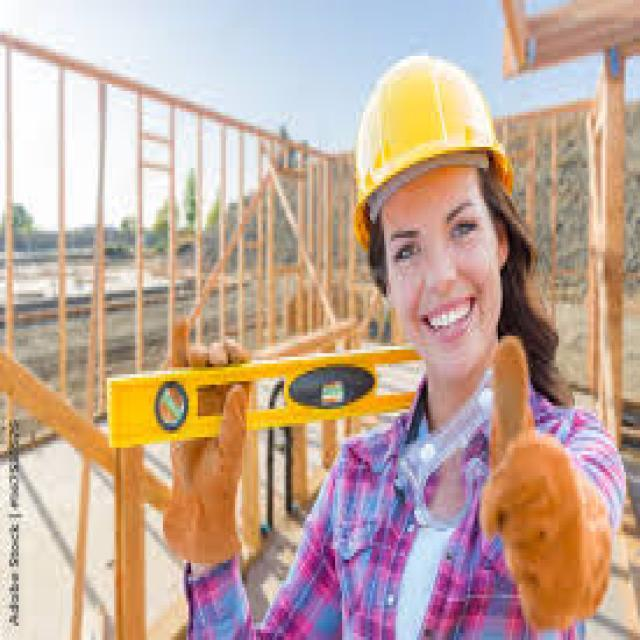gloved: (477, 332, 612, 630), (162, 324, 250, 560)
